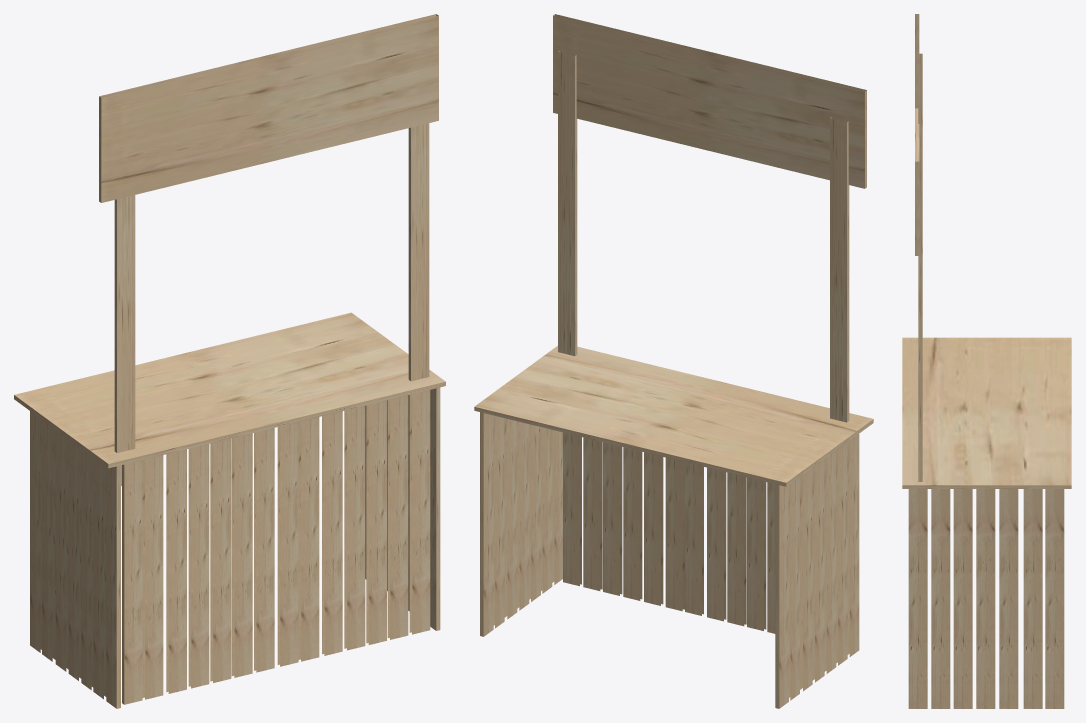
File: LemonadeStand.glb
3 views of the same model, side by side, from view 1: azimuth 30°, elevation 25°; view 2: azimuth 150°, elevation 25°; view 3: azimuth 270°, elevation 25° (orthographic). The views are drawn at different scales.
Parts seen in each view (by area): view 1: LemonadeStand; view 2: LemonadeStand; view 3: LemonadeStand.
Part boxes in pixels (x1=…): LemonadeStand: x1=14, y1=14, x2=445, y2=708; LemonadeStand: x1=474, y1=14, x2=873, y2=708; LemonadeStand: x1=902, y1=14, x2=1071, y2=708.
Size of the model in its own units: 12.16 by 21.04 by 5.89.
1 material, 1 textured.
